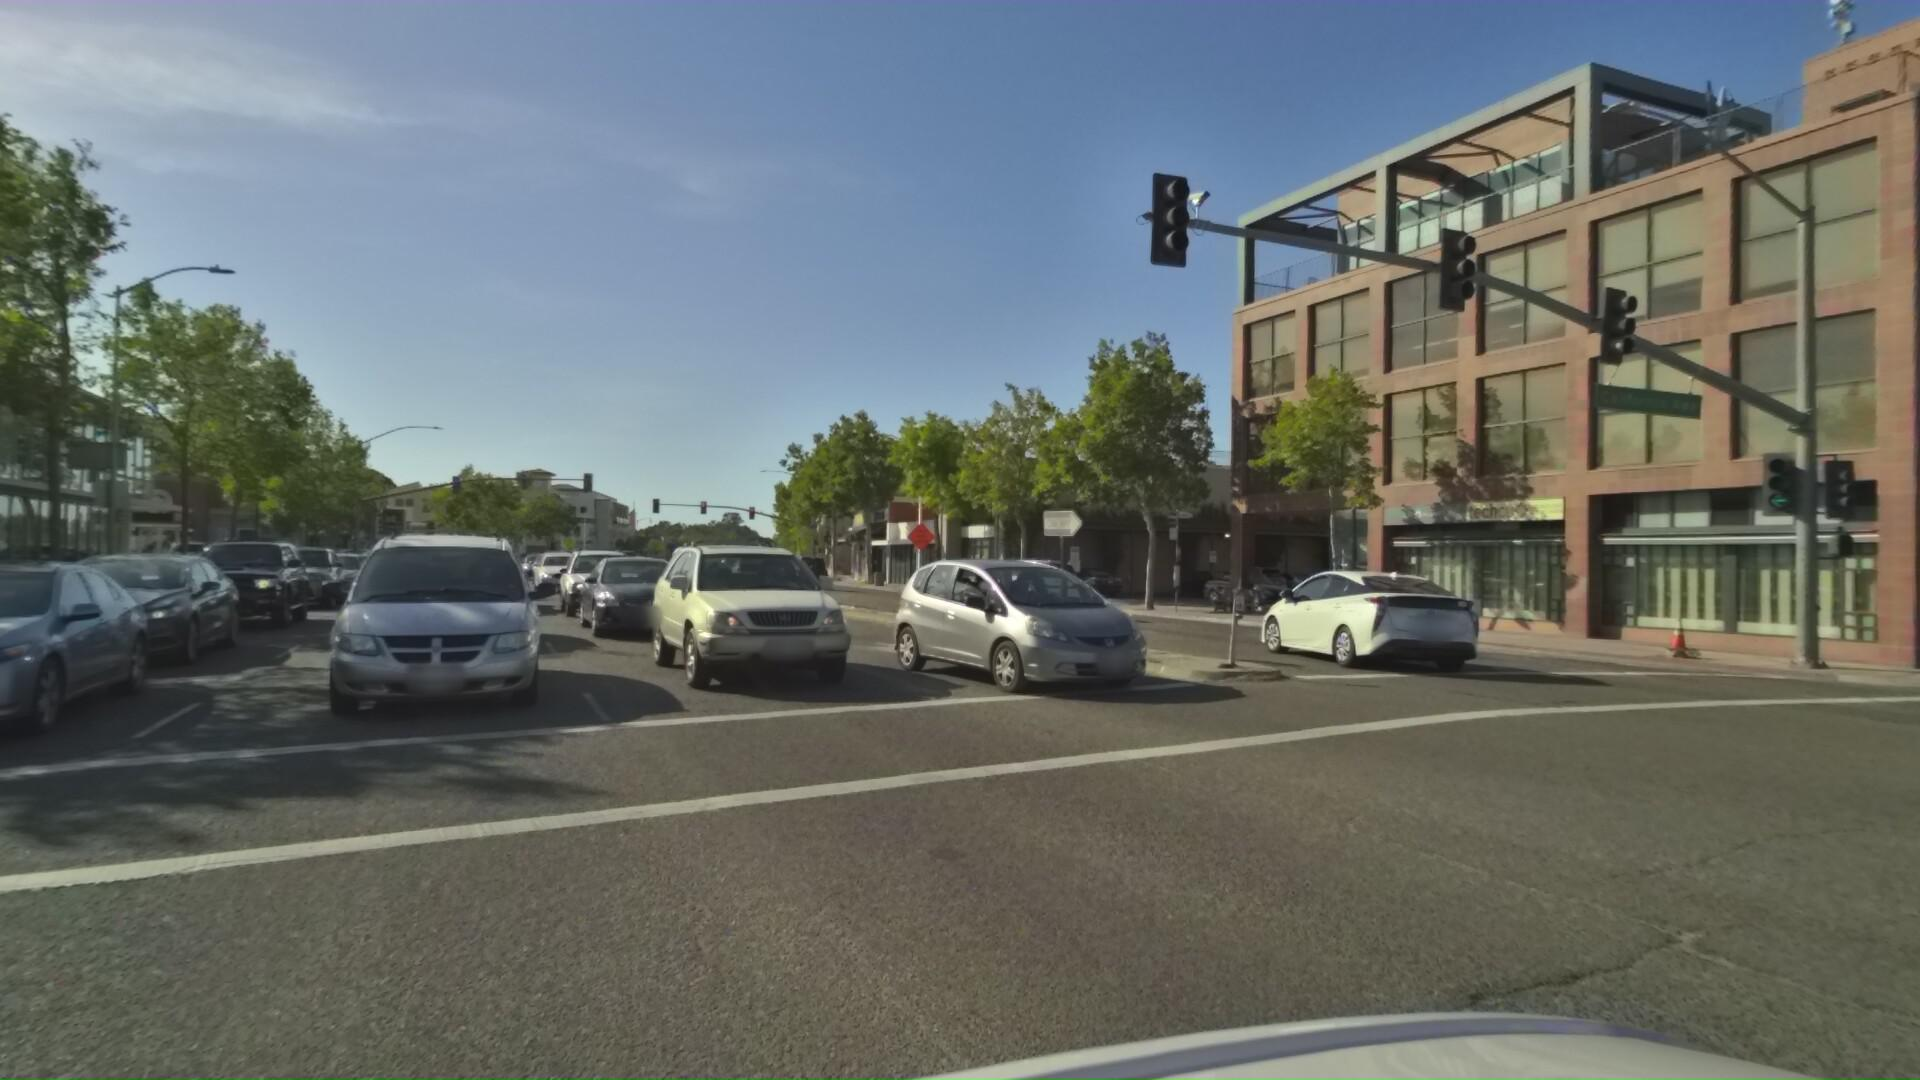car: (282, 512, 527, 728), (868, 553, 1158, 704), (626, 518, 848, 694), (0, 553, 150, 777), (0, 545, 243, 678), (1230, 560, 1474, 673), (142, 526, 313, 638), (357, 531, 513, 651), (560, 549, 704, 640), (396, 526, 516, 618), (233, 539, 345, 611), (964, 550, 1083, 616), (553, 539, 645, 617), (276, 545, 375, 604), (1193, 563, 1305, 608), (423, 531, 488, 593), (530, 547, 599, 592), (429, 547, 491, 592), (769, 547, 833, 588), (1054, 560, 1126, 596), (162, 537, 229, 574), (314, 545, 396, 572), (487, 547, 560, 574), (717, 547, 766, 580), (521, 549, 564, 582)
